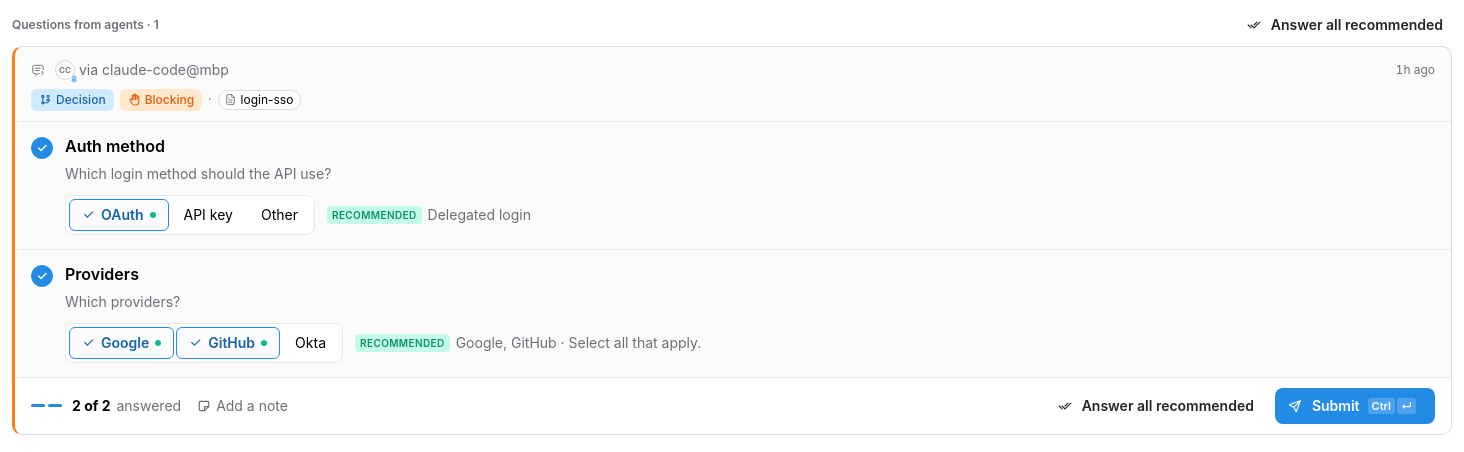
Test: question cards › preselects the recommended option, marks it, and uses toggle buttons for multiSelect
Expected: the radio button with aria-label "OAuth (recommended)" is shown, 69,199 -> 168,231
Expected: the radio button labelled "Other" is shown, 248,199 -> 311,231
Click the radio button labelled "API key": (208, 215) 170,199 -> 246,231
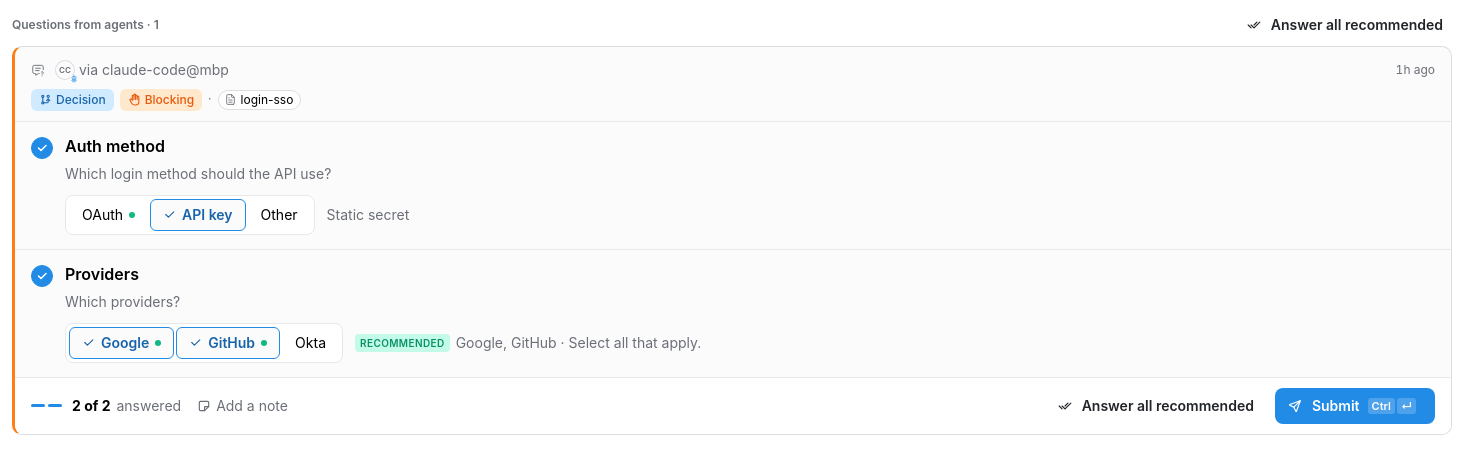
Expected: the text "Blocking" is shown, 120,89 -> 202,111
Now the text "Static secret" is shown, box 327,204 -> 409,226
